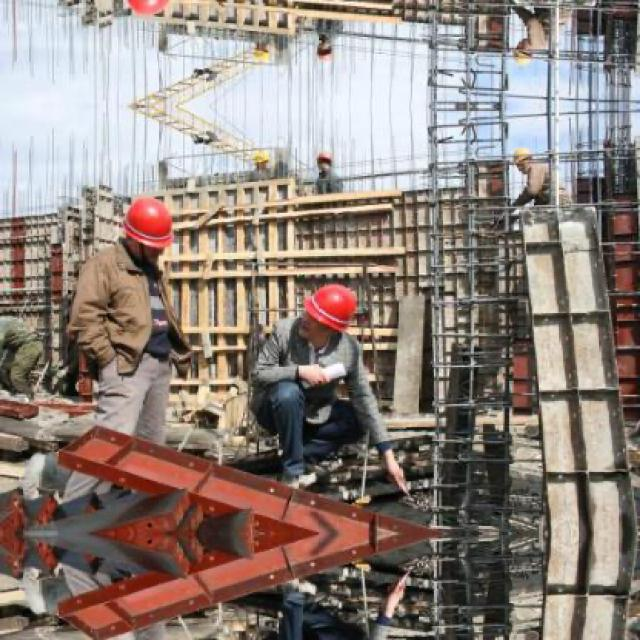helmet: (121, 191, 177, 265), (298, 281, 362, 342), (120, 0, 177, 23), (515, 140, 537, 178), (515, 36, 537, 72), (315, 150, 334, 178), (315, 36, 334, 64), (254, 150, 269, 172), (254, 42, 269, 64)
